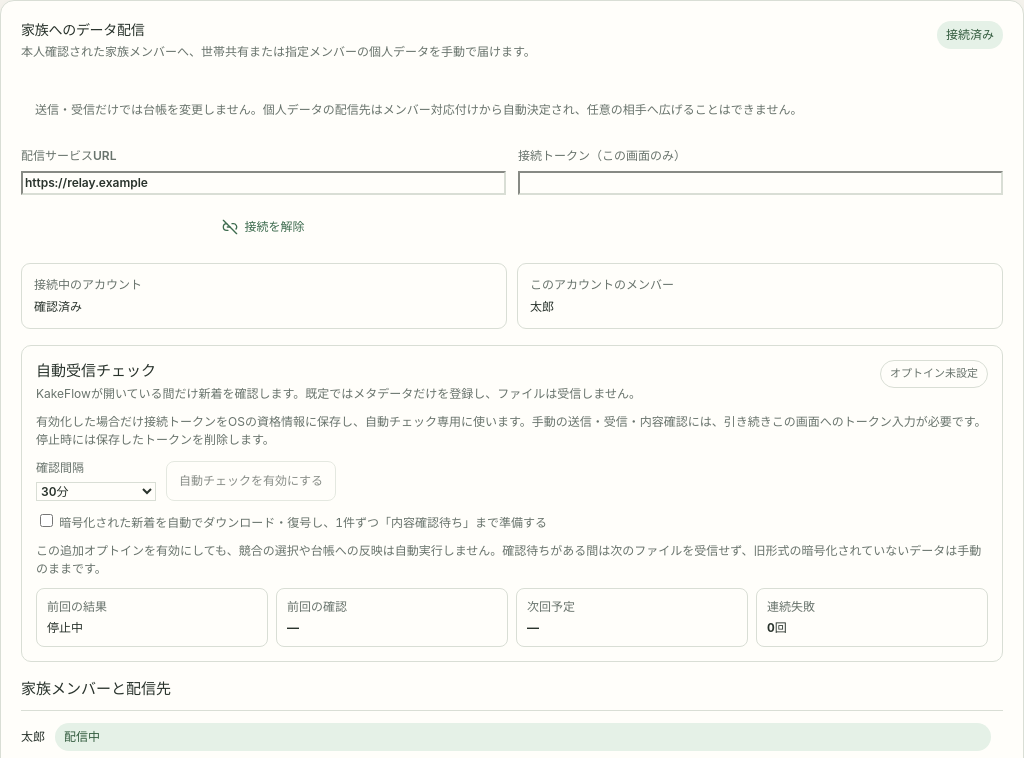
Test: FamilyDeliveryPanel › opts in to background discovery, runs it without resending a token, and keeps apply manual
The image size is (1024, 758).
Check: the text "オプトイン未設定" is shown, box x1=880 y1=360 x2=988 y2=388
Check: the text "KakeFlowが開いている間だけ新着を確認します。既定ではメタデータだけを登録し、ファイルは受信しません。" is shown, box x1=36 y1=385 x2=641 y2=403
Select "15分" in the dropdown named "自動受信チェックの間隔" at [96, 491], box x1=36 y1=482 x2=156 y2=501
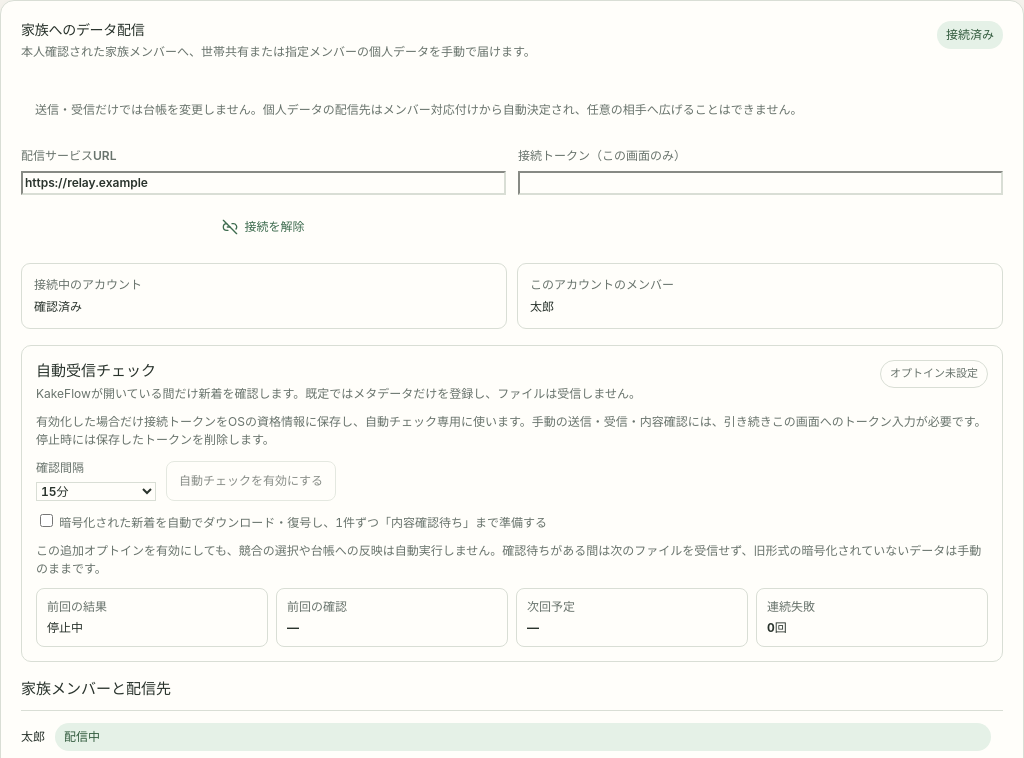
Type "session-secret" into the password field labelled "接続トークン（この画面のみ）" at [760, 183], box x1=518 y1=171 x2=1003 y2=195
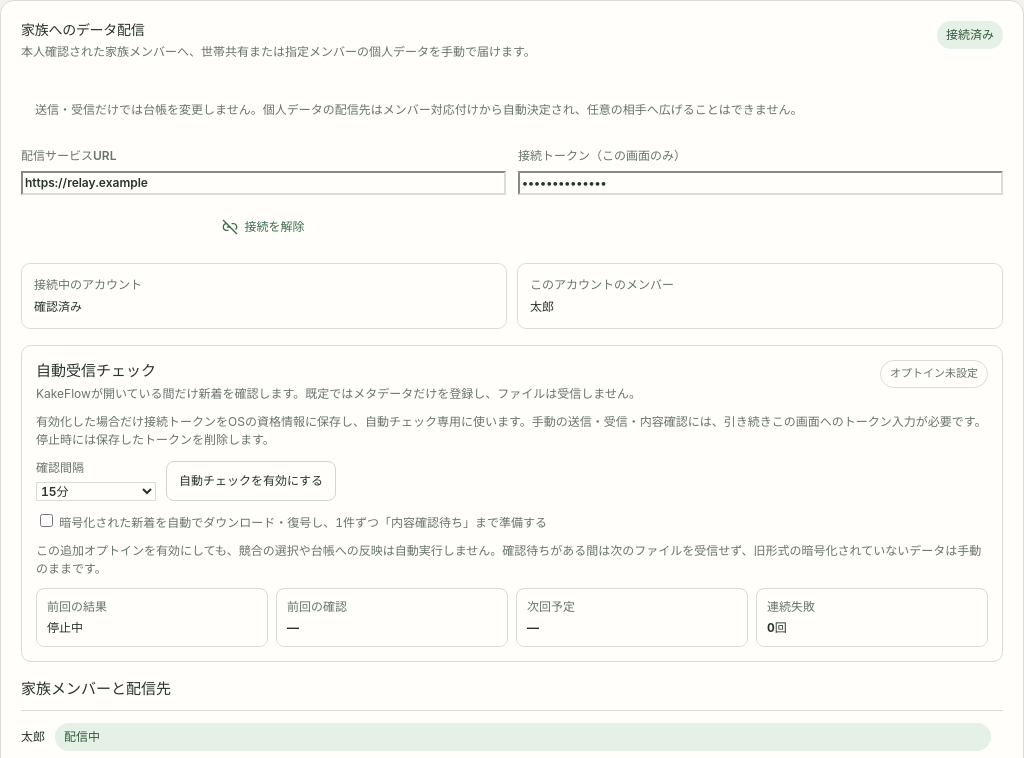
Click the button "自動チェックを有効にする" at [251, 481], box x1=166 y1=461 x2=336 y2=501
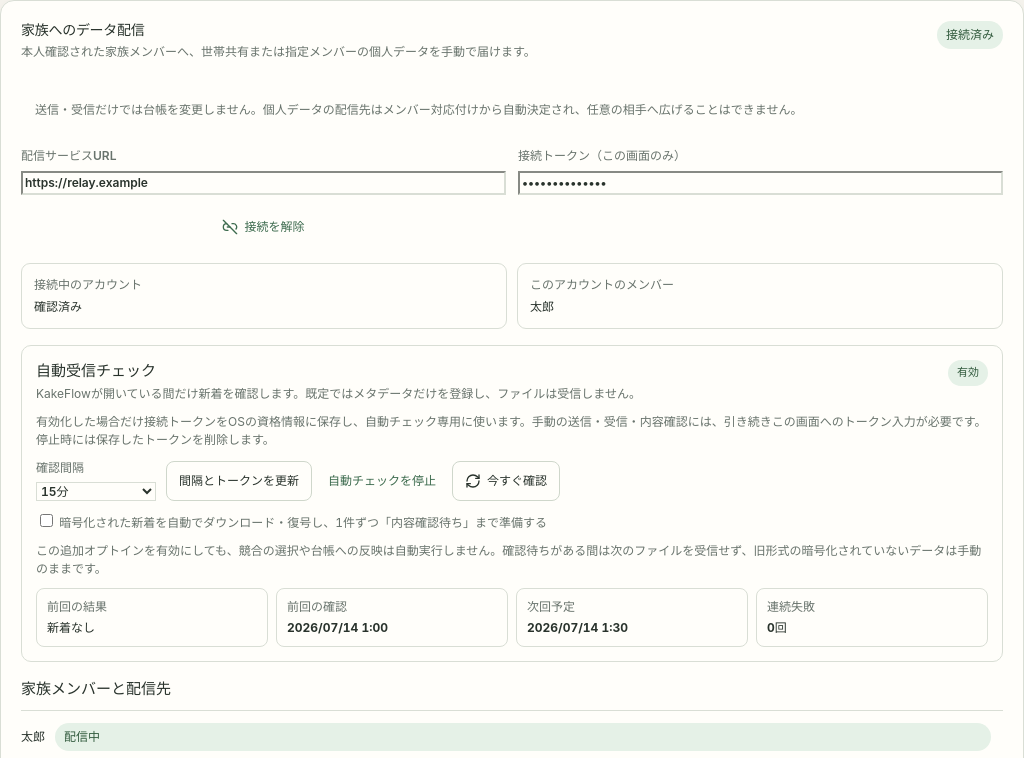
Check: the text "前回の結果" is shown, box x1=47 y1=599 x2=107 y2=614
Check: the text "新着なし" is shown, box x1=47 y1=620 x2=95 y2=635
Click the button "今すぐ確認" at [506, 481], box x1=452 y1=461 x2=560 y2=501
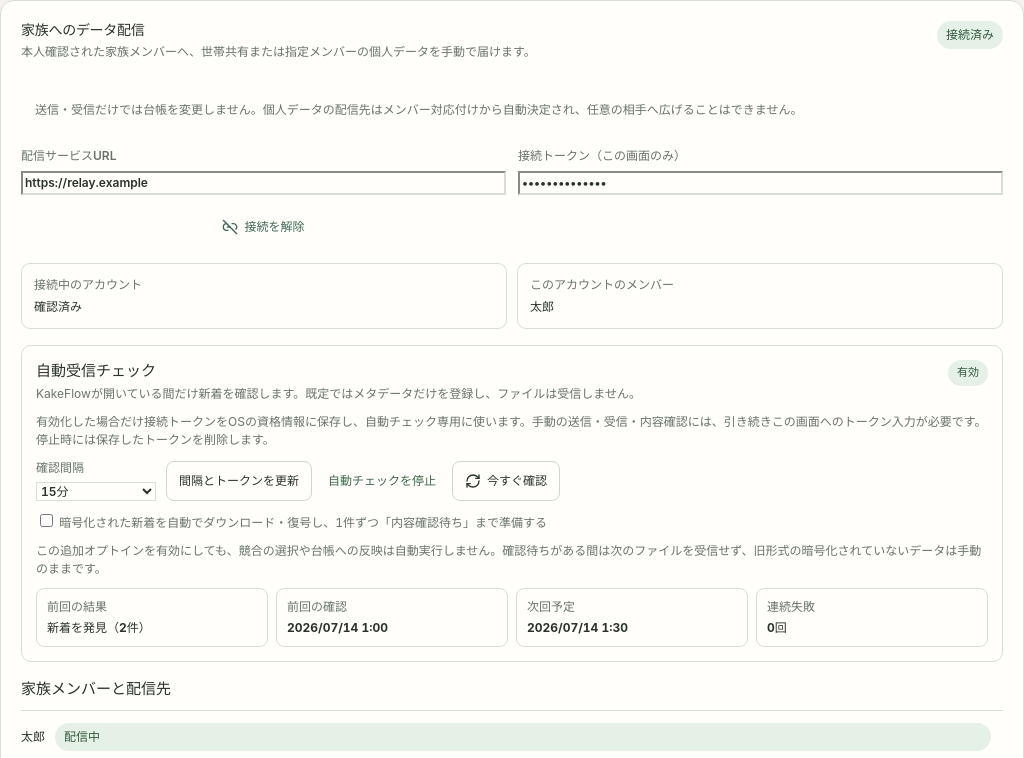
Click the button "自動チェックを停止" at [382, 481], box x1=322 y1=461 x2=442 y2=501
(page scrolled)
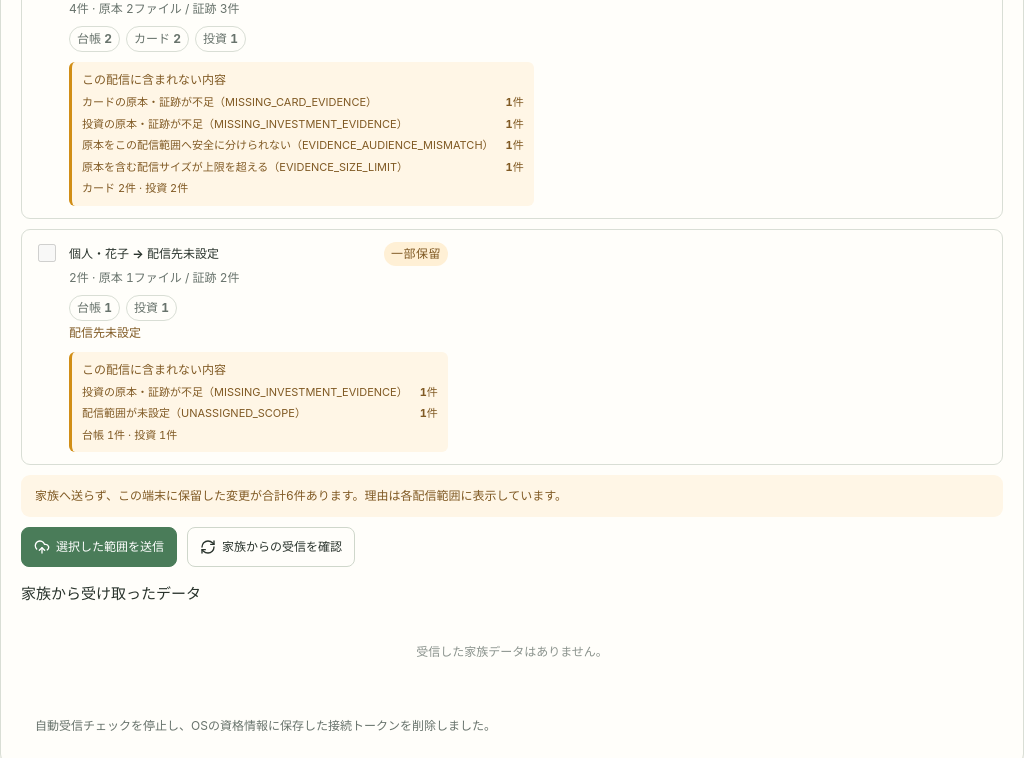
Check: the text "自動受信チェックを停止し、OSの資格情報に保存した接続トークンを削除しました。" is shown, box x1=35 y1=718 x2=496 y2=733
